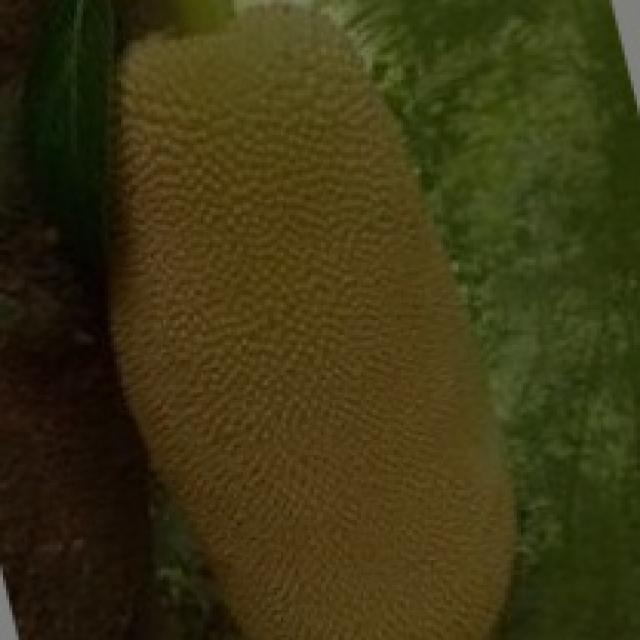Fruit: (52, 0, 502, 360), (224, 237, 569, 640)
